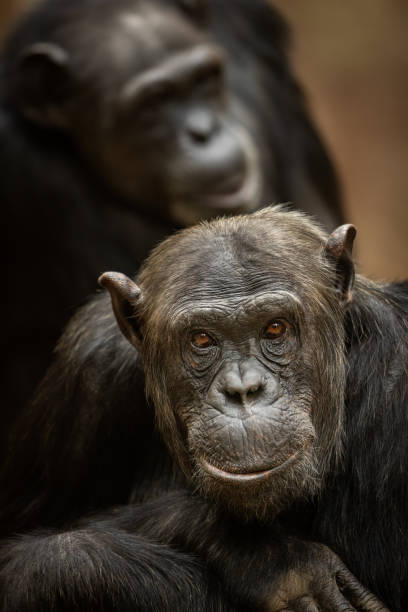chimpanzee: (73, 180, 368, 536)
